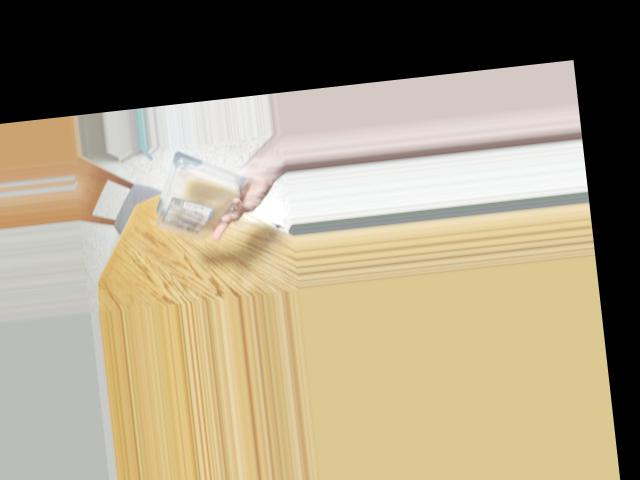cheese: (144, 155, 249, 242)
